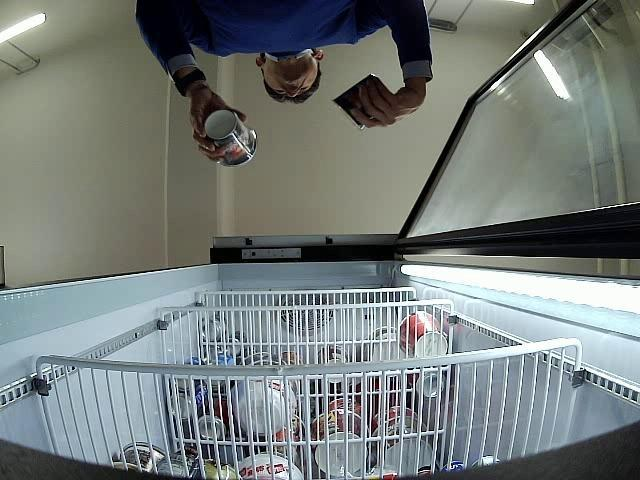08_buldak_S: (202, 108, 256, 166), (332, 74, 380, 132)
